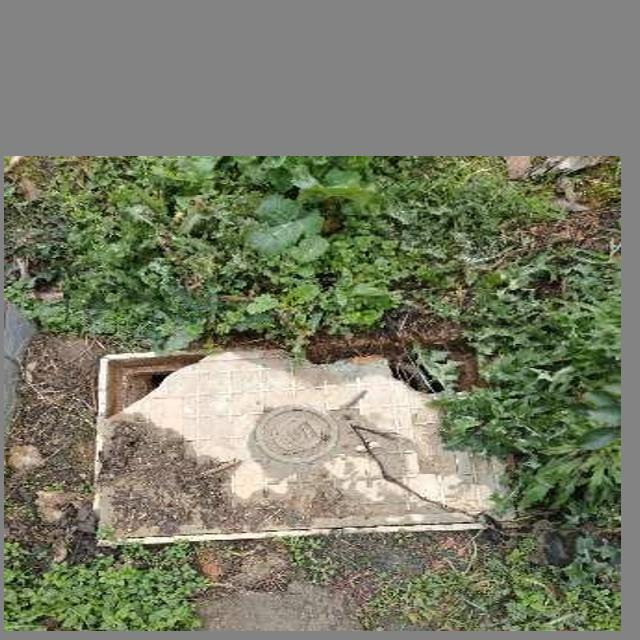broke: (92, 339, 539, 547)
